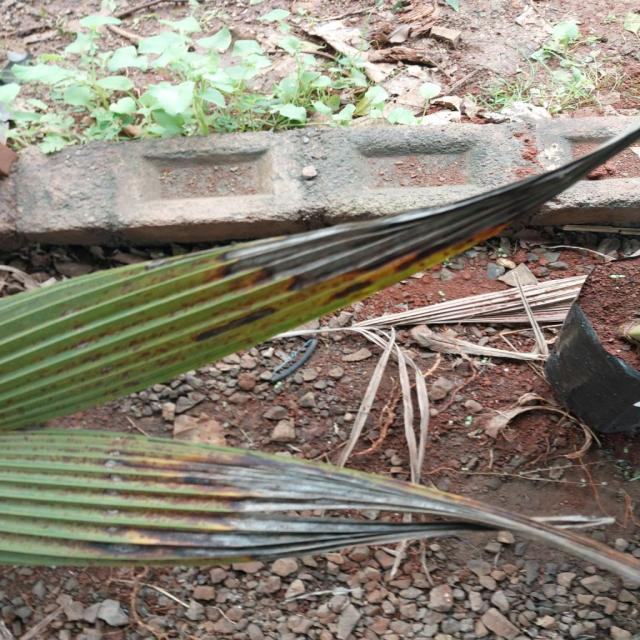gray leaf spot: (4, 128, 640, 566)
